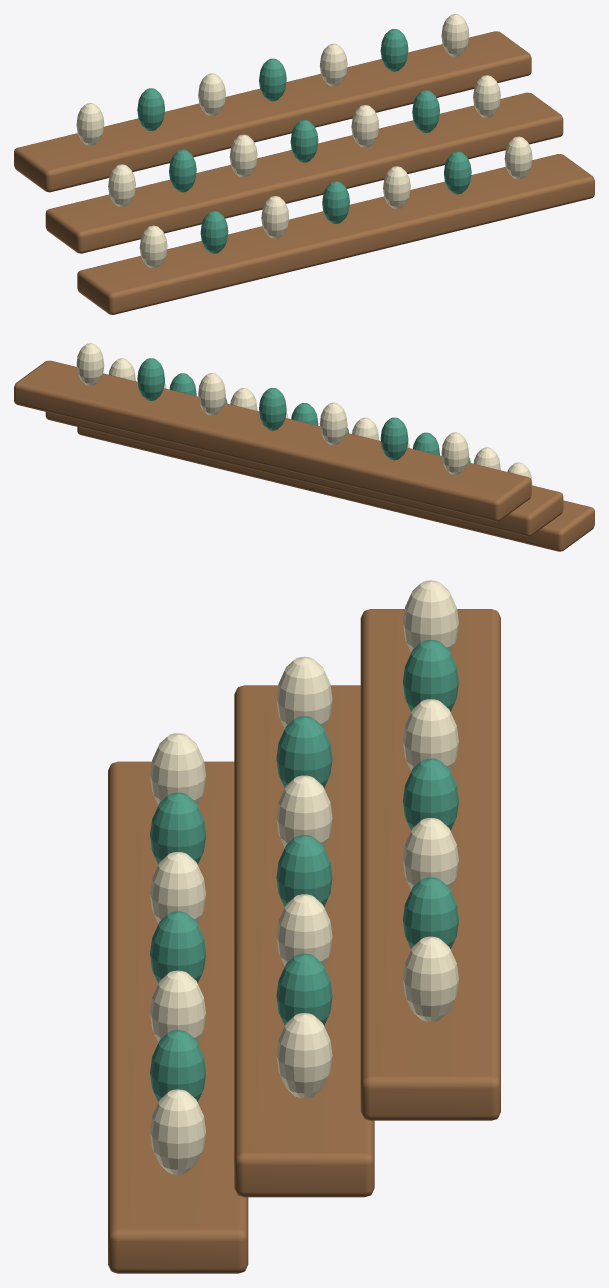
The model's file is prop-grandstand.glb.
3 renders of one model, top to bottom at view 1: azimuth 30°, elevation 25°; view 2: azimuth 150°, elevation 25°; view 3: azimuth 270°, elevation 25°, orthographic. The views are drawn at different scales.
Visible parts, largest first — view 1: Bench, Bench.002, Bench.001, Spectator.009, Spectator.005, Spectator.008, Spectator.014, Spectator.017, Spectator.018, Spectator.019, Spectator.020, Spectator (+12 smaller); view 2: Bench.002, Bench.001, Bench, Spectator.020, Spectator.016, Spectator.014, Spectator.018, Spectator.015, Spectator.017, Spectator.019, Spectator.008, Spectator.009 (+5 smaller); view 3: Bench.002, Bench.001, Bench, Spectator.013, Spectator.006, Spectator.020, Spectator.011, Spectator.007, Spectator.008, Spectator.009, Spectator.010, Spectator.012 (+12 smaller).
Boxes of the visible parts, left/top/right/bottom form: Bench: left=77, top=154, right=594, bottom=314; Bench.002: left=14, top=31, right=531, bottom=192; Bench.001: left=45, top=92, right=563, bottom=253; Spectator.009: left=229, top=134, right=257, bottom=177; Spectator.005: left=444, top=151, right=471, bottom=194; Spectator.008: left=169, top=149, right=196, bottom=192; Spectator.014: left=76, top=103, right=104, bottom=145; Spectator.017: left=259, top=58, right=286, bottom=101; Spectator.018: left=320, top=43, right=347, bottom=86; Spectator.019: left=380, top=29, right=408, bottom=71; Spectator.020: left=441, top=14, right=469, bottom=56; Spectator: left=139, top=225, right=167, bottom=268; Bench.002: left=14, top=360, right=531, bottom=521; Bench.001: left=45, top=412, right=563, bottom=536; Bench: left=77, top=427, right=594, bottom=551; Spectator.020: left=76, top=343, right=104, bottom=385; Spectator.016: left=319, top=402, right=347, bottom=445; Spectator.014: left=441, top=432, right=469, bottom=474; Spectator.018: left=198, top=373, right=225, bottom=415; Spectator.015: left=380, top=417, right=408, bottom=460; Spectator.017: left=259, top=388, right=286, bottom=430; Spectator.019: left=137, top=358, right=164, bottom=400; Spectator.008: left=413, top=432, right=439, bottom=455; Spectator.009: left=352, top=417, right=379, bottom=440; Bench.002: left=360, top=609, right=500, bottom=1120; Bench.001: left=234, top=685, right=374, bottom=1197; Bench: left=108, top=761, right=248, bottom=1273; Spectator.013: left=276, top=1013, right=332, bottom=1098; Spectator.006: left=150, top=1089, right=205, bottom=1174; Spectator.020: left=403, top=936, right=458, bottom=1021; Spectator.011: left=276, top=894, right=332, bottom=966; Spectator.007: left=276, top=656, right=332, bottom=728; Spectator.008: left=276, top=716, right=332, bottom=788; Spectator.009: left=276, top=775, right=332, bottom=847; Spectator.010: left=276, top=835, right=332, bottom=906; Spectator.012: left=276, top=953, right=332, bottom=1025.
Bounding box in the file's own units: 8 × 2.2 × 2.8.
